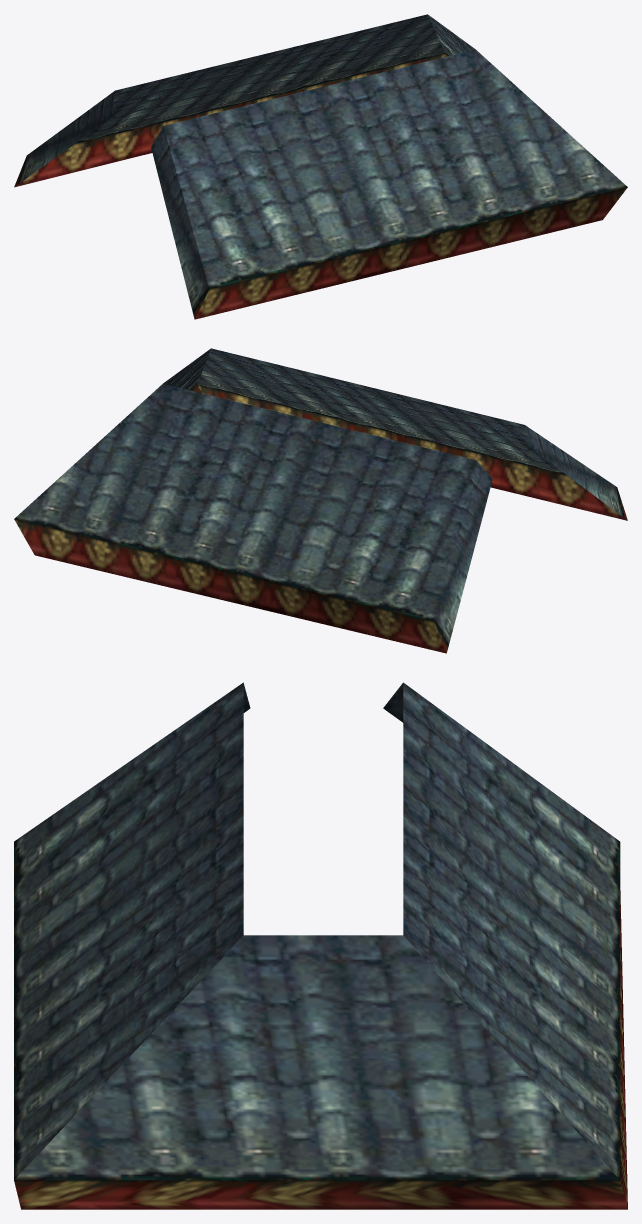
3 renders of one model, top to bottom at view 1: azimuth 30°, elevation 25°; view 2: azimuth 150°, elevation 25°; view 3: azimuth 270°, elevation 25°, orthographic. The views are drawn at different scales.
Parts seen in each view (by area): view 1: z_jz_dm_dj_10; view 2: z_jz_dm_dj_10; view 3: z_jz_dm_dj_10.
Part boxes in pixels (x1,y1,x2,y2): z_jz_dm_dj_10: (14,14,627,319); z_jz_dm_dj_10: (14,348,627,653); z_jz_dm_dj_10: (14,682,627,1209).
Bounding box in the file's own units: 238 × 71.88 × 177.
